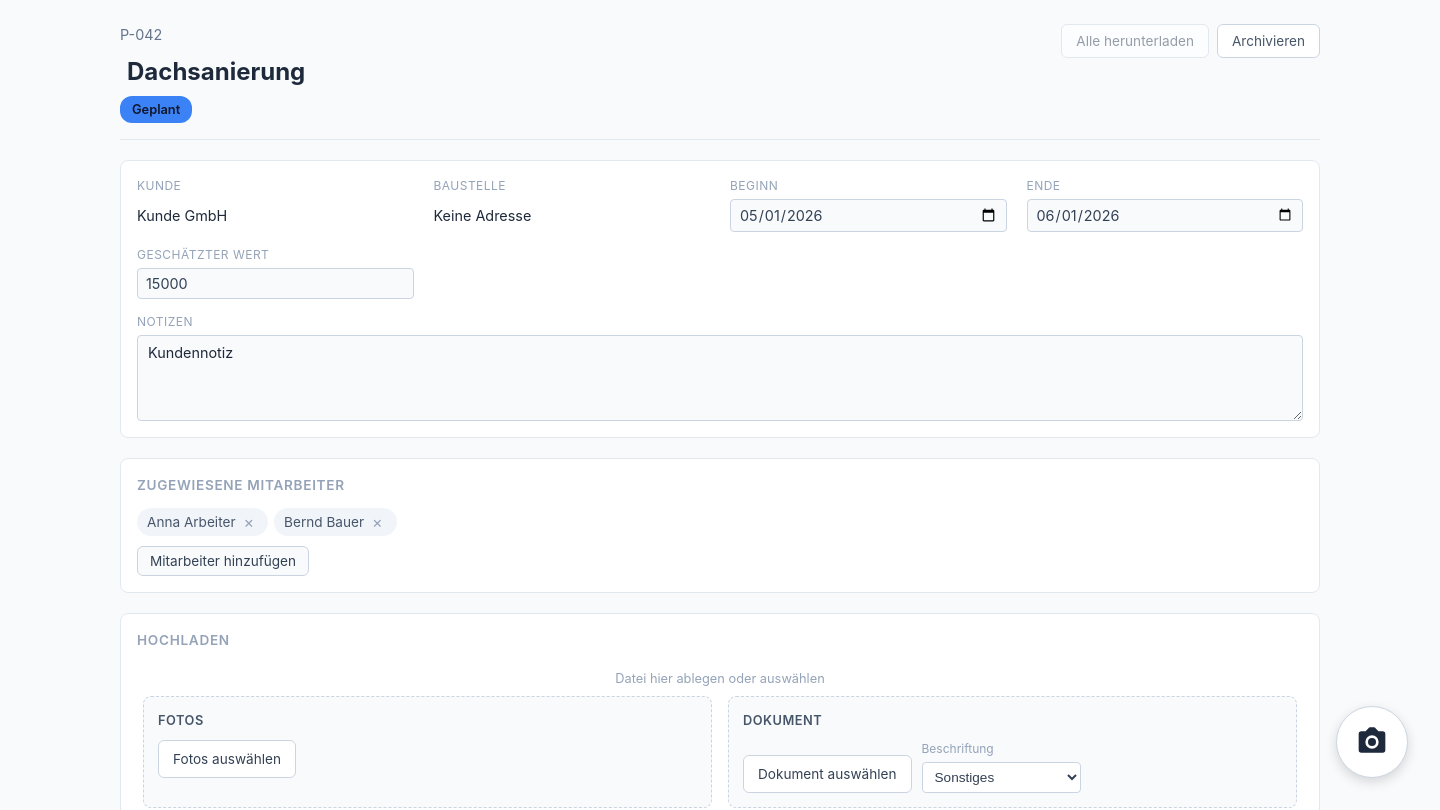
Scenario: ProjectDetailPage — BAUSTELLE click opens SiteAddressEditModal › opens the modal for an owner (canUpdate = true)
Click the button with test id "project-detail-site-address-edit".
click(470, 185)  # box [434,178,531,224]
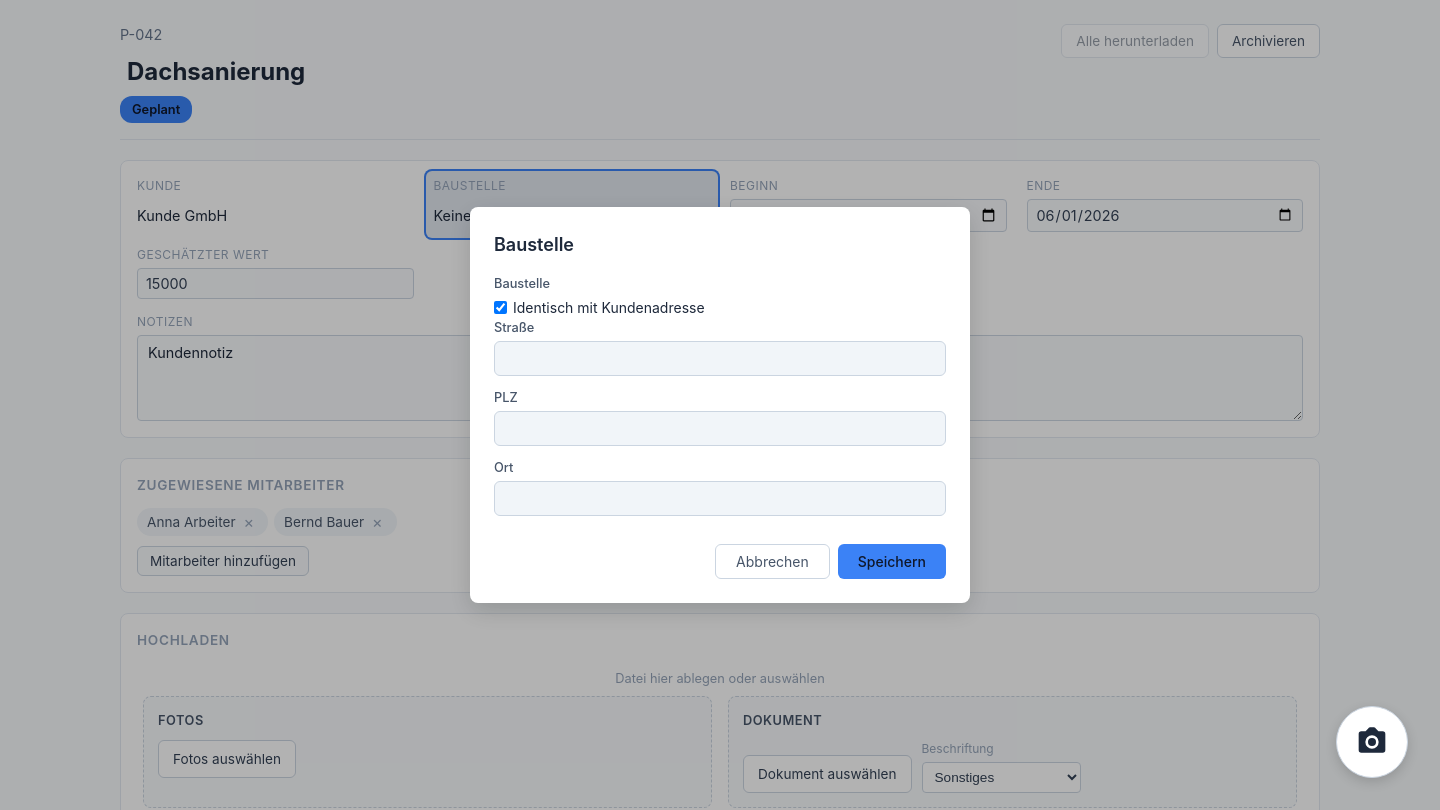
Now the element with test id "site-address-modal" is shown
Now the button with test id "project-site-save" is shown, box [838,544,946,579]
